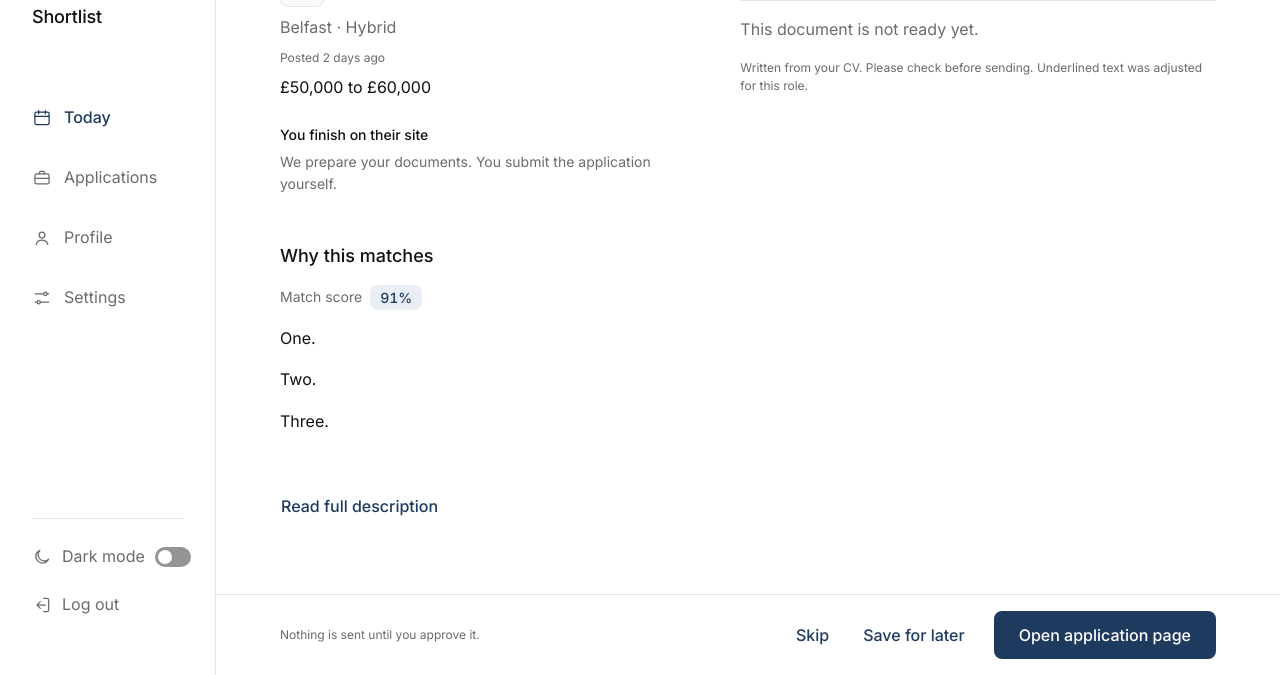
it: full job description › shows the key facts and every section, with a note when the advert is partial
(page scrolled)
Click the button "Read full description" at x=360, y=506, box left=268, top=482, right=451, bottom=530
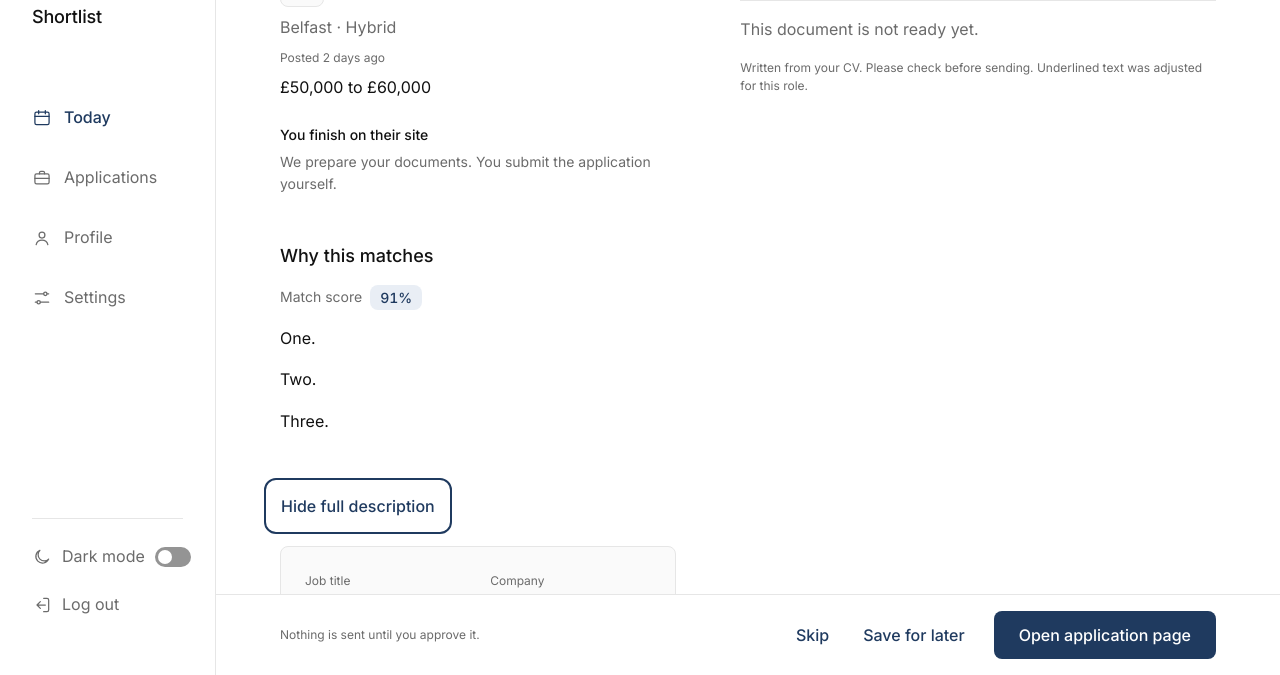
Result: the button "Hide full description" is expanded at left=268, top=482, right=448, bottom=530
